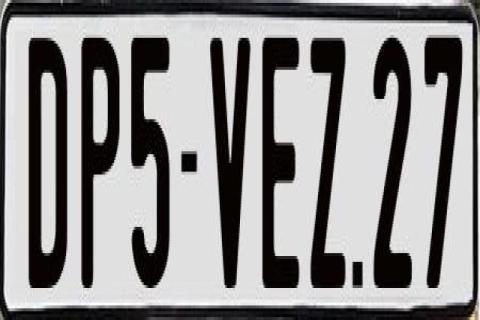0: (129, 38, 172, 291), (424, 35, 466, 294), (370, 38, 410, 300)
D: (28, 38, 71, 288)
E: (260, 29, 298, 291)
P: (78, 38, 117, 302)
V: (208, 32, 250, 288)
Z: (308, 32, 350, 291)
